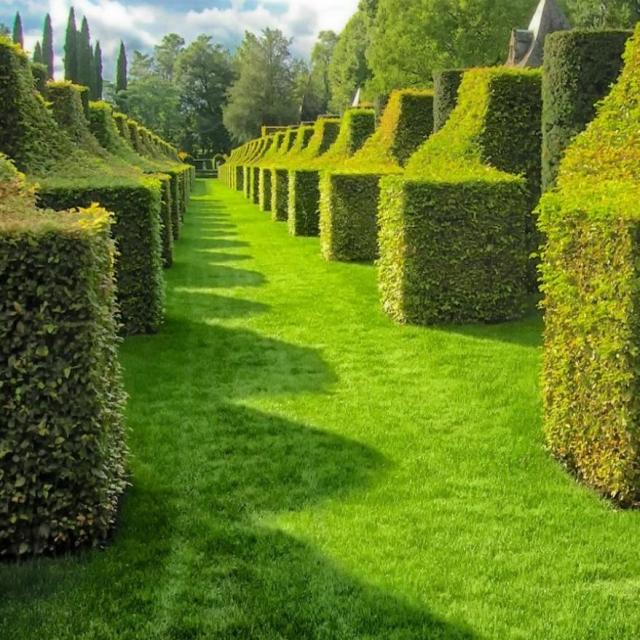row: (65, 175, 640, 640)
